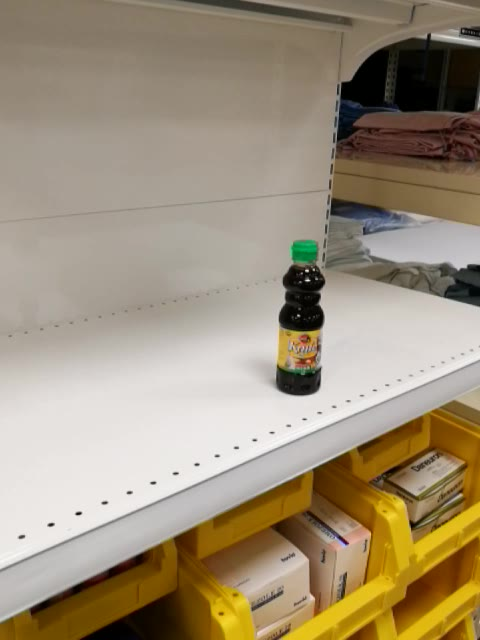cookingoil: (272, 237, 326, 396)
